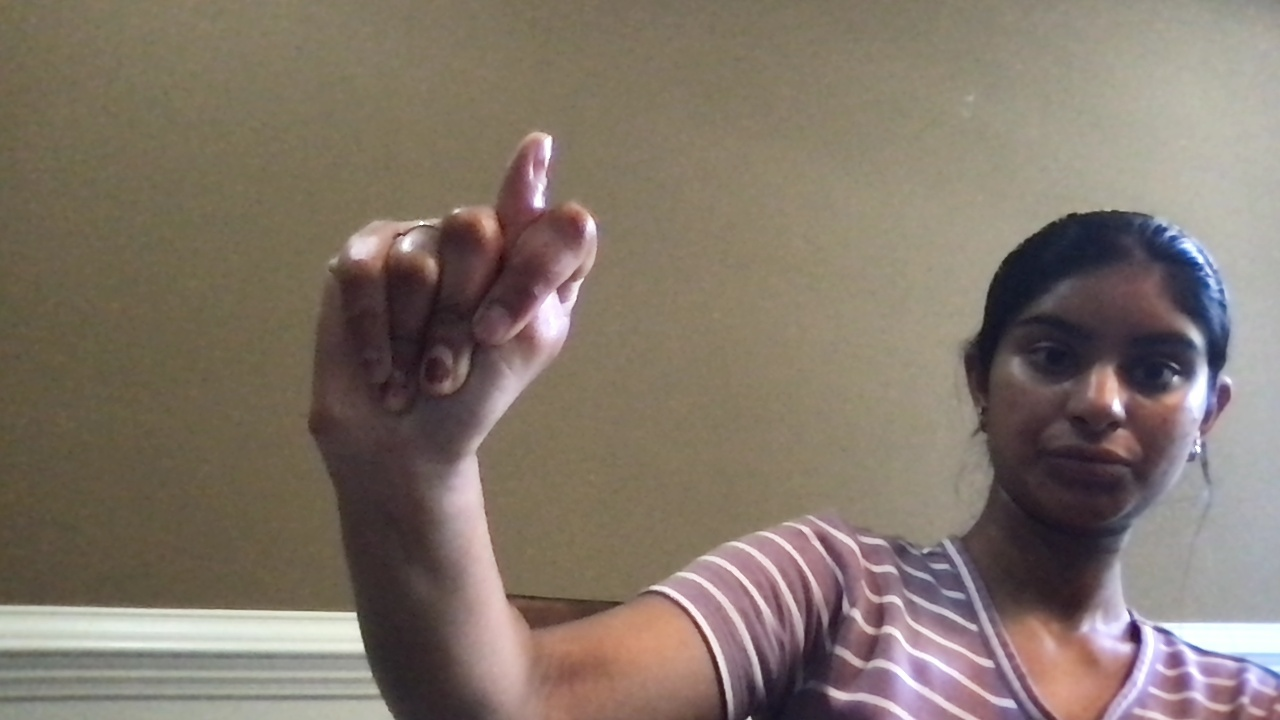Bathroom: (234, 107, 636, 481)
